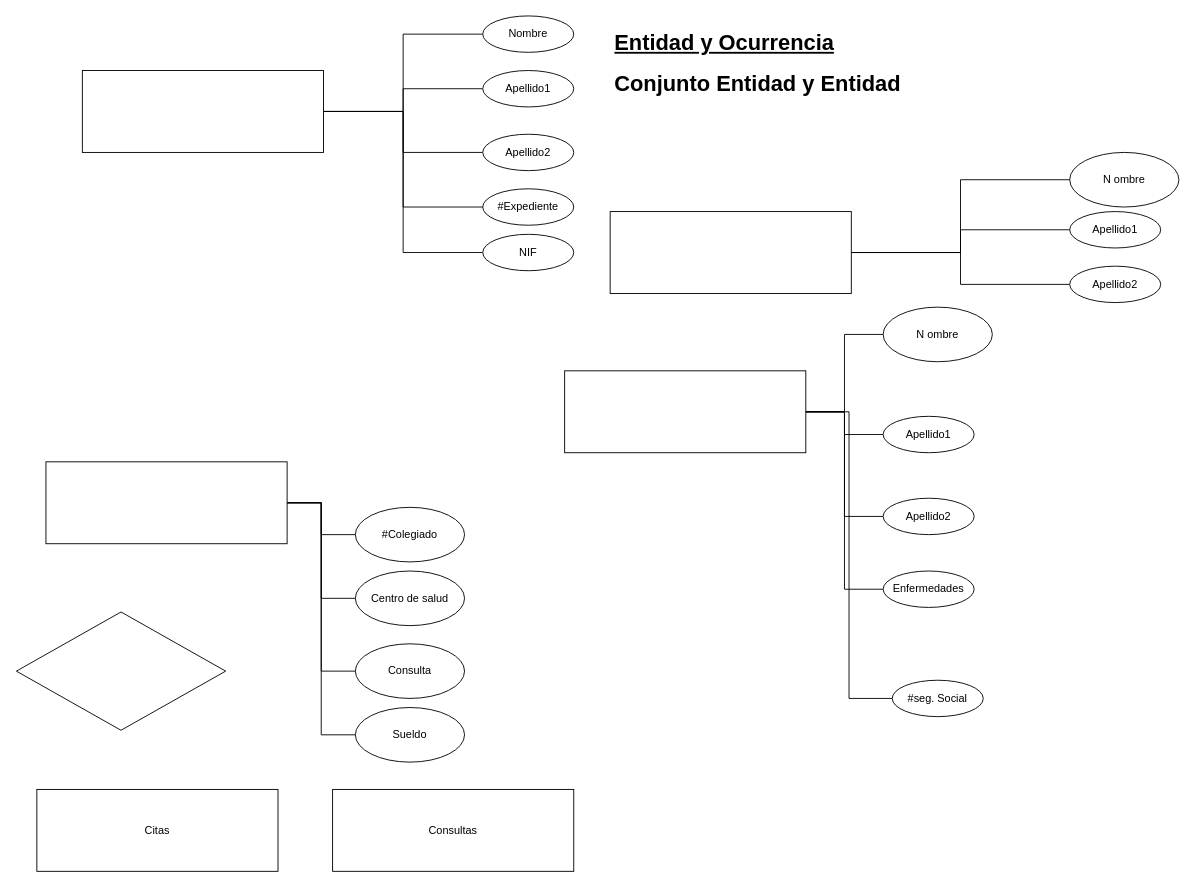
The diagram is 1195 pixels wide and 887 high, and some of its shapes have lost their labels. Here are the shapes that lost their labels. From the top down, the box of each, then its label:
(81, 70, 324, 152): Alumnos
(609, 211, 851, 293): Personas
(564, 370, 806, 453): Pacientes
(45, 461, 287, 544): Médicos
(15, 611, 226, 730): Relationship
